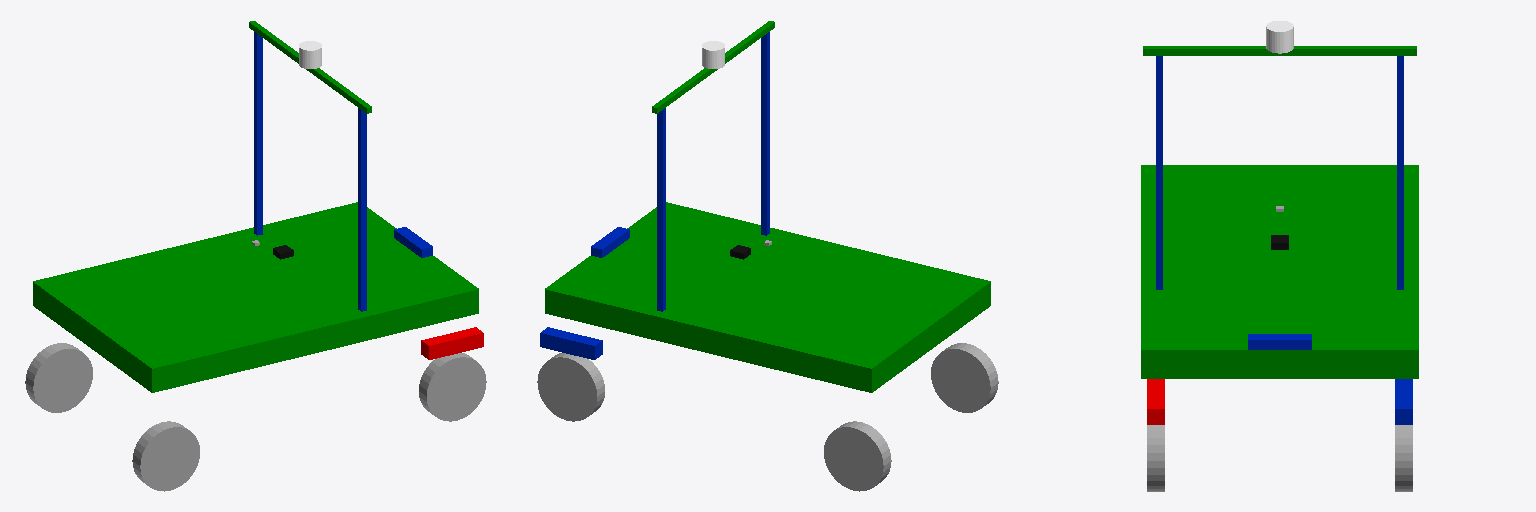
URDF robot description (amr):
<?xml version="1.0" ?>
<!-- =================================================================================== -->
<!-- |    This document was autogenerated by xacro from /home/kong/cart_nav_test/src/cart_nav_test/urdf/amr_PROPER_acker.urdf.xacro | -->
<!-- |    EDITING THIS FILE BY HAND IS NOT RECOMMENDED                                 | -->
<!-- =================================================================================== -->
<robot name="amr">
  <material name="grey">
    <color rgba="0.7 0.7 0.7 1"/>
  </material>
  <material name="green">
    <color rgba="0 0.6 0 1"/>
  </material>
  <material name="red">
    <color rgba="1 0 0 1"/>
  </material>
  <material name="white">
    <color rgba="1 1 1 1"/>
  </material>
  <material name="black">
    <color rgba="0.1 0.1 0.1 1"/>
  </material>
  <material name="blue">
    <color rgba="0 0.2 0.8 1"/>
  </material>
  <link name="base_footprint"/>
  <link name="base_link">
    <visual>
      <geometry>
        <box size="1.2 0.76 0.085"/>
      </geometry>
      <!-- <origin xyz="0 0 0.1" rpy="0 0 0" /> -->
      <origin rpy="0 0 0" xyz="0 0 0"/>
      <material name="green"/>
    </visual>
    <collision>
      <geometry>
        <box size="1.2 0.76 0.085"/>
      </geometry>
      <!-- <origin xyz="0 0 0.1" rpy="0 0 0" /> -->
      <origin rpy="0 0 0" xyz="0 0 0"/>
    </collision>
    <inertial>
      <!-- <origin xyz="0 0 0.1" rpy="0 0 0" /> -->
      <origin rpy="0 0 0" xyz="0 0 0"/>
      <mass value="4.0"/>
      <inertia ixx="0.19494166666666668" ixy="0" ixz="0" iyy="0.48240833333333333" iyz="0" izz="0.6725333333333332"/>
    </inertial>
  </link>
  <link name="lidar_arm_vert_left">
    <visual>
      <geometry>
        <box size="0.02 0.02 0.75"/>
      </geometry>
      <origin rpy="0 0 0" xyz="0 0 0"/>
      <material name="blue"/>
    </visual>
    <collision>
      <geometry>
        <box size="0.02 0.02 0.75"/>
      </geometry>
      <origin rpy="0 0 0" xyz="0 0 0"/>
    </collision>
    <inertial>
      <origin rpy="0 0 0" xyz="0 0 0"/>
      <mass value="0.2"/>
      <inertia ixx="0.009381666666666667" ixy="0" ixz="0" iyy="0.009381666666666667" iyz="0" izz="1.3333333333333333e-05"/>
    </inertial>
  </link>
  <link name="lidar_arm_vert_right">
    <visual>
      <geometry>
        <box size="0.02 0.02 0.75"/>
      </geometry>
      <origin rpy="0 0 0" xyz="0 0 0"/>
      <material name="blue"/>
    </visual>
    <collision>
      <geometry>
        <box size="0.02 0.02 0.75"/>
      </geometry>
      <origin rpy="0 0 0" xyz="0 0 0"/>
    </collision>
    <inertial>
      <origin rpy="0 0 0" xyz="0 0 0"/>
      <mass value="0.2"/>
      <inertia ixx="0.009381666666666667" ixy="0" ixz="0" iyy="0.009381666666666667" iyz="0" izz="1.3333333333333333e-05"/>
    </inertial>
  </link>
  <link name="lidar_arm_hori">
    <visual>
      <geometry>
        <box size="0.02 0.75 0.02"/>
      </geometry>
      <origin rpy="0 0 0" xyz="0 0 0"/>
      <material name="green"/>
    </visual>
    <collision>
      <geometry>
        <box size="0.02 0.75 0.02"/>
      </geometry>
      <origin rpy="0 0 0" xyz="0 0 0"/>
    </collision>
    <inertial>
      <origin rpy="0 0 0" xyz="0 0 0"/>
      <mass value="0.2"/>
      <inertia ixx="0.009381666666666667" ixy="0" ixz="0" iyy="0.009381666666666667" iyz="0" izz="1.3333333333333333e-05"/>
    </inertial>
  </link>
  <link name="lidar_3d">
    <visual>
      <geometry>
        <cylinder length="0.065" radius="0.0375"/>
      </geometry>
      <origin rpy="0 0 0" xyz="0 0 0"/>
      <material name="white"/>
    </visual>
    <collision>
      <geometry>
        <cylinder length="0.065" radius="0.0375"/>
      </geometry>
      <origin rpy="0 0 0" xyz="0 0 0"/>
    </collision>
    <inertial>
      <origin rpy="0 0 0" xyz="0 0 0"/>
      <mass value="0.23"/>
      <!-- Cylinder inertia -->
      <inertia ixx="0.00016183854166666666" ixy="0" ixz="0" iyy="0.00016183854166666666" iyz="0" izz="0.00016171875"/>
    </inertial>
  </link>
  <link name="camera_link">
    <visual>
      <geometry>
        <box size="0.1753 0.0431 0.0303"/>
      </geometry>
      <origin rpy="0 0 1.571" xyz="0 0 0"/>
      <material name="blue"/>
    </visual>
    <collision>
      <geometry>
        <box size="0.1753 0.0431 0.0303"/>
      </geometry>
      <origin rpy="0 0 1.571" xyz="0 0 0"/>
    </collision>
    <inertial>
      <origin rpy="0 0 1.571" xyz="0 0 0"/>
      <mass value="0.23"/>
      <inertia ixx="5.320091666666666e-05" ixy="0" ixz="0" iyy="0.0006065901166666667" iyz="0" izz="0.0006245975833333334"/>
    </inertial>
  </link>
  <link name="camera_depth_frame"/>
  <link name="imu_link">
    <visual>
      <geometry>
        <box size="0.02 0.02 0.01"/>
      </geometry>
      <origin rpy="0 0 0" xyz="0 0 0"/>
      <material name="grey"/>
    </visual>
    <collision>
      <geometry>
        <box size="0.02 0.02 0.01"/>
      </geometry>
      <origin rpy="0 0 0" xyz="0 0 0"/>
    </collision>
    <inertial>
      <origin rpy="0 0 0" xyz="0 0 0"/>
      <mass value="0.05"/>
      <inertia ixx="0.0000020833" ixy="0" ixz="0" iyy="0.0000020833" iyz="0" izz="0.000003333"/>
    </inertial>
  </link>
  <link name="navsat_link">
    <visual>
      <geometry>
        <box size="0.05 0.05 0.02"/>
      </geometry>
      <origin rpy="0 0 0" xyz="0 0 0"/>
      <material name="black"/>
    </visual>
    <collision>
      <geometry>
        <box size="0.05 0.05 0.02"/>
      </geometry>
      <origin rpy="0 0 0" xyz="0 0 0"/>
    </collision>
    <inertial>
      <origin rpy="0 0 0" xyz="0 0 0"/>
      <mass value="0.05"/>
      <inertia ixx="0.000012083" ixy="0" ixz="0" iyy="0.000012083" iyz="0" izz="0.000020833"/>
    </inertial>
  </link>
  <link name="front_left_wheel">
    <visual>
      <geometry>
        <cylinder length="0.05" radius="0.11"/>
      </geometry>
      <origin rpy="1.57 0 0" xyz="0 0 0"/>
      <material name="grey"/>
    </visual>
    <collision>
      <geometry>
        <cylinder length="0.05" radius="0.11"/>
      </geometry>
      <origin rpy="1.57 0 0" xyz="0 0 0"/>
    </collision>
    <inertial>
      <origin rpy="1.57 0 0" xyz="0 0 0"/>
      <mass value="1.5"/>
      <inertia ixx="0.00485" ixy="0" ixz="0" iyy="0.00485" iyz="0" izz="0.009075"/>
    </inertial>
  </link>
  <link name="back_left_wheel">
    <visual>
      <geometry>
        <cylinder length="0.05" radius="0.11"/>
      </geometry>
      <origin rpy="1.57 0 0" xyz="0 0 0"/>
      <material name="grey"/>
    </visual>
    <collision>
      <geometry>
        <cylinder length="0.05" radius="0.11"/>
      </geometry>
      <origin rpy="1.57 0 0" xyz="0 0 0"/>
    </collision>
    <inertial>
      <origin rpy="1.57 0 0" xyz="0 0 0"/>
      <mass value="1.5"/>
      <inertia ixx="0.00485" ixy="0" ixz="0" iyy="0.00485" iyz="0" izz="0.009075"/>
    </inertial>
  </link>
  <link name="front_right_wheel">
    <visual>
      <geometry>
        <cylinder length="0.05" radius="0.11"/>
      </geometry>
      <origin rpy="1.57 0 0" xyz="0 0 0"/>
      <material name="grey"/>
    </visual>
    <collision>
      <geometry>
        <cylinder length="0.05" radius="0.11"/>
      </geometry>
      <origin rpy="1.57 0 0" xyz="0 0 0"/>
    </collision>
    <inertial>
      <origin rpy="1.57 0 0" xyz="0 0 0"/>
      <mass value="1.5"/>
      <inertia ixx="0.00485" ixy="0" ixz="0" iyy="0.00485" iyz="0" izz="0.009075"/>
    </inertial>
  </link>
  <link name="back_right_wheel">
    <visual>
      <geometry>
        <cylinder length="0.05" radius="0.11"/>
      </geometry>
      <origin rpy="1.57 0 0" xyz="0 0 0"/>
      <material name="grey"/>
    </visual>
    <collision>
      <geometry>
        <cylinder length="0.05" radius="0.11"/>
      </geometry>
      <origin rpy="1.57 0 0" xyz="0 0 0"/>
    </collision>
    <inertial>
      <origin rpy="1.57 0 0" xyz="0 0 0"/>
      <mass value="1.5"/>
      <inertia ixx="0.00485" ixy="0" ixz="0" iyy="0.00485" iyz="0" izz="0.009075"/>
    </inertial>
  </link>
  <joint name="base_joint" type="fixed">
    <parent link="base_footprint"/>
    <child link="base_link"/>
    <origin rpy="0 0 0" xyz="0 0 0.4125"/>
  </joint>
  <joint name="base_lidar_arm_vert_left_joint" type="fixed">
    <parent link="base_link"/>
    <child link="lidar_arm_vert_left"/>
    <origin rpy="0 0 0" xyz="0.19999999999999998 0.33 0.375"/>
  </joint>
  <joint name="base_lidar_arm_vert_right_joint" type="fixed">
    <parent link="base_link"/>
    <child link="lidar_arm_vert_right"/>
    <origin rpy="0 0 0" xyz="0.19999999999999998 -0.33 0.375"/>
  </joint>
  <joint name="base_lidar_arm_hori_joint" type="fixed">
    <parent link="base_link"/>
    <child link="lidar_arm_hori"/>
    <origin rpy="0 0 0" xyz="0.19999999999999998 0 0.76"/>
  </joint>
  <!-- <joint name="base_lidar_3d_joint" type="fixed">
        <parent link="base_link" />
        <child link="lidar_3d" />
        <origin xyz="0.15 0 0.38" rpy="0 0 0" />
    </joint> -->
  <joint name="lidar_arm_hori_lidar_3d_joint" type="fixed">
    <parent link="lidar_arm_hori"/>
    <child link="lidar_3d"/>
    <origin rpy="0 0 0" xyz="0 0 0.0425"/>
  </joint>
  <joint name="camera_joint" type="fixed">
    <parent link="base_link"/>
    <child link="camera_link"/>
    <origin rpy="0 0 0" xyz="0.57845 0 0.05765000000000001"/>
  </joint>
  <joint name="camera_depth_joint" type="fixed">
    <parent link="camera_link"/>
    <child link="camera_depth_frame"/>
    <origin rpy="0 0 0" xyz="0 0 0"/>
  </joint>
  <joint name="imu_joint" type="fixed">
    <parent link="base_link"/>
    <child link="imu_link"/>
    <origin rpy="0 0 0" xyz="0 0 0.19"/>
  </joint>
  <joint name="navsat_joint" type="fixed">
    <parent link="base_link"/>
    <child link="navsat_link"/>
    <origin rpy="0 0 0" xyz="0.1 0 0.135"/>
  </joint>
  <link name="front_left_steering_link">
    <visual>
      <geometry>
        <box size="0.2 0.05 0.05"/>
      </geometry>
      <origin rpy="0 0 0" xyz="0 0 0.15"/>
      <material name="blue"/>
    </visual>
    <collision>
      <geometry>
        <box size="0.2 0.05 0.05"/>
      </geometry>
      <origin rpy="0 0 0" xyz="0 0 0.15"/>
    </collision>
    <inertial>
      <origin rpy="0 0 0" xyz="0 0 0.15"/>
      <mass value="0.01"/>
      <inertia ixx="4.166666666666667e-06" ixy="0" ixz="0" iyy="3.5416666666666676e-05" iyz="0" izz="3.5416666666666676e-05"/>
    </inertial>
  </link>
  <link name="front_right_steering_link">
    <visual>
      <geometry>
        <box size="0.2 0.05 0.05"/>
      </geometry>
      <origin rpy="0 0 0" xyz="0 0 0.15"/>
      <material name="red"/>
    </visual>
    <collision>
      <geometry>
        <box size="0.2 0.05 0.05"/>
      </geometry>
      <origin rpy="0 0 0" xyz="0 0 0.15"/>
    </collision>
    <inertial>
      <origin rpy="0 0 0" xyz="0 0 0.15"/>
      <mass value="0.01"/>
      <inertia ixx="4.166666666666667e-06" ixy="0" ixz="0" iyy="3.5416666666666676e-05" iyz="0" izz="3.5416666666666676e-05"/>
    </inertial>
  </link>
  <!-- Steering knuckle joint (this is what the plugin actuates to steer) -->
  <joint name="base_front_left_steering_joint" type="revolute">
    <parent link="base_link"/>
    <child link="front_left_steering_link"/>
    <origin rpy="0 0 0" xyz="0.525 0.34 -0.2975"/>
    <axis xyz="0 0 1"/>
    <limit effort="10" lower="-0.5" upper="0.5" velocity="1.0"/>
  </joint>
  <!-- Wheel spin joint, child of the steering link -->
  <joint name="base_front_left_wheel_joint" type="continuous">
    <parent link="front_left_steering_link"/>
    <child link="front_left_wheel"/>
    <origin rpy="0 0 0" xyz="0 0 0"/>
    <axis xyz="0 1 0"/>
  </joint>
  <!-- Steering knuckle joint (this is what the plugin actuates to steer) -->
  <joint name="base_front_right_steering_joint" type="revolute">
    <parent link="base_link"/>
    <child link="front_right_steering_link"/>
    <origin rpy="0 0 0" xyz="0.525 -0.34 -0.2975"/>
    <axis xyz="0 0 1"/>
    <limit effort="10" lower="-0.5" upper="0.5" velocity="1.0"/>
  </joint>
  <!-- Wheel spin joint, child of the steering link -->
  <joint name="base_front_right_wheel_joint" type="continuous">
    <parent link="front_right_steering_link"/>
    <child link="front_right_wheel"/>
    <origin rpy="0 0 0" xyz="0 0 0"/>
    <axis xyz="0 1 0"/>
  </joint>
  <!-- <joint name="base_front_left_wheel_joint" type="continuous">
        <parent link="base_link" />
        <child link="front_left_wheel" />
        <origin xyz="${wheel_gap_from_base_length} ${wheel_gap_from_base_width} -${robot_base_midpoint + robot_base_wheel_gap + wheel_radius}" rpy="0 0 0" />
        <axis xyz="0 1 0" />
        <dynamics damping="1.0" friction="0.1"/>
    </joint>

    <joint name="base_front_right_wheel_joint" type="continuous">
        <parent link="base_link" />
        <child link="front_right_wheel" />
        <origin xyz="${wheel_gap_from_base_length} -${wheel_gap_from_base_width} -${robot_base_midpoint + robot_base_wheel_gap + wheel_radius}" rpy="0 0 0" />
        <axis xyz="0 1 0" />
        <dynamics damping="1.0" friction="0.1"/>
    </joint>    -->
  <joint name="base_back_left_wheel_joint" type="continuous">
    <parent link="base_link"/>
    <child link="back_left_wheel"/>
    <origin rpy="0 0 0" xyz="-0.525 0.34 -0.2975"/>
    <axis xyz="0 1 0"/>
    <dynamics damping="1.0" friction="0.1"/>
  </joint>
  <joint name="base_back_right_wheel_joint" type="continuous">
    <parent link="base_link"/>
    <child link="back_right_wheel"/>
    <origin rpy="0 0 0" xyz="-0.525 -0.34 -0.2975"/>
    <axis xyz="0 1 0"/>
    <dynamics damping="1.0" friction="0.1"/>
  </joint>
  <gazebo reference="base_link">
    <material>Gazebo/Green</material>
  </gazebo>
  <gazebo reference="lidar_3d">
    <material>Gazebo/White</material>
  </gazebo>
  <gazebo reference="camera_link">
    <material>Gazebo/Black</material>
  </gazebo>
  <gazebo reference="imu_link">
    <material>Gazebo/Grey</material>
  </gazebo>
  <gazebo reference="navsat_link">
    <material>Gazebo/Black</material>
  </gazebo>
  <gazebo reference="lidar_3d">
    <sensor name="lidar_3d_sensor" type="gpu_lidar">
      <topic>lidar_3d</topic>
      <update_rate>15</update_rate>
      <gz_frame_id>lidar_3d</gz_frame_id>
      <lidar>
        <scan>
          <horizontal>
            <!-- <samples>720</samples> -->
            <samples>360</samples>
            <resolution>1</resolution>
            <min_angle>-3.14</min_angle>
            <max_angle>3.14</max_angle>
          </horizontal>
          <vertical>
            <samples>64</samples>
            <resolution>1</resolution>
            <min_angle>-0.26</min_angle>
            <max_angle>0.26</max_angle>
          </vertical>
        </scan>
        <range>
          <min>0.15</min>
          <max>10.0</max>
        </range>
      </lidar>
      <always_on>true</always_on>
    </sensor>
  </gazebo>
  <gazebo reference="camera_link">
    <sensor name="depth_camera" type="rgbd_camera">
      <!-- <sensor name="depth_camera" type="depth_camera"> -->
      <update_rate>15</update_rate>
      <topic>camera</topic>
      <gz_frame_id>camera_link</gz_frame_id>
      <camera>
        <horizontal_fov>1.5708</horizontal_fov>
        <image>
          <!-- <width>640</width>
                    <height>480</height> -->
          <width>320</width>
          <height>240</height>
          <!-- <width>120</width>
                    <height>100</height> -->
          <format>R8G8B8</format>
        </image>
        <clip>
          <near>0.1</near>
          <far>10.0</far>
        </clip>
      </camera>
      <always_on>1</always_on>
      <visualize>true</visualize>
    </sensor>
  </gazebo>
  <gazebo reference="imu_link">
    <sensor name="imu_sensor" type="imu">
      <update_rate>50</update_rate>
      <topic>imu</topic>
      <gz_frame_id>imu_link</gz_frame_id>
      <always_on>1</always_on>
      <imu>
        <orientation_reference_frame>
          <localization>ENU</localization>
        </orientation_reference_frame>
        <angular_velocity>
          <x>
            <noise type="gaussian">
              <mean>0.0</mean>
              <stddev>2e-4</stddev>
            </noise>
          </x>
          <y>
            <noise type="gaussian">
              <mean>0.0</mean>
              <stddev>2e-4</stddev>
            </noise>
          </y>
          <z>
            <noise type="gaussian">
              <mean>0.0</mean>
              <stddev>2e-4</stddev>
            </noise>
          </z>
        </angular_velocity>
        <linear_acceleration>
          <x>
            <noise type="gaussian">
              <mean>0.0</mean>
              <stddev>1.7e-2</stddev>
            </noise>
          </x>
          <y>
            <noise type="gaussian">
              <mean>0.0</mean>
              <stddev>1.7e-2</stddev>
            </noise>
          </y>
          <z>
            <noise type="gaussian">
              <mean>0.0</mean>
              <stddev>1.7e-2</stddev>
            </noise>
          </z>
        </linear_acceleration>
      </imu>
    </sensor>
  </gazebo>
  <gazebo reference="navsat_link">
    <sensor name="navsat" type="navsat">
      <always_on>1</always_on>
      <update_rate>10</update_rate>
      <topic>navsat</topic>
      <gz_frame_id>navsat_link</gz_frame_id>
    </sensor>
  </gazebo>
  <gazebo>
    <plugin filename="gz-sim-ackermann-steering-system" name="gz::sim::systems::AckermannSteering">
      <!-- Steering joints (front wheels, rotate to steer) -->
      <left_steering_joint>base_front_left_steering_joint</left_steering_joint>
      <right_steering_joint>base_front_right_steering_joint</right_steering_joint>
      <!-- Drive joints (rear wheels, provide propulsion) -->
      <left_joint>base_back_left_wheel_joint</left_joint>
      <right_joint>base_back_right_wheel_joint</right_joint>
      <!-- Geometry -->
      <wheel_separation>0.68</wheel_separation>
      <!-- track width (left to right) -->
      <wheel_base>1.05</wheel_base>
      <!-- front axle to rear axle distance -->
      <wheel_radius>0.11</wheel_radius>
      <!-- Steering limits -->
      <steering_limit>0.7854</steering_limit>
      <!-- max steering angle in radians -->
      <!-- Topics -->
      <topic>cmd_vel</topic>
      <odom_topic>odom</odom_topic>
      <!-- <tf_topic>/tf</tf_topic> -->
      <frame_id>odom</frame_id>
      <child_frame_id>base_footprint</child_frame_id>
      <odom_publish_frequency>50</odom_publish_frequency>
    </plugin>
  </gazebo>
  <gazebo reference="base_front_left_steering_joint">
    <implicitSpringDamper>1</implicitSpringDamper>
  </gazebo>
  <gazebo reference="base_front_right_steering_joint">
    <implicitSpringDamper>1</implicitSpringDamper>
  </gazebo>
  <gazebo reference="front_left_wheel">
    <mu1>0.5</mu1>
    <mu2>0.5</mu2>
    <!-- <slip1>0.02</slip1>
        <slip2>0.02</slip2>
        <kp>100000</kp>
        <kd>1</kd> -->
  </gazebo>
  <gazebo reference="front_right_wheel">
    <mu1>0.5</mu1>
    <mu2>0.5</mu2>
    <!-- <slip1>0.02</slip1>
        <slip2>0.02</slip2>
        <kp>100000</kp>
        <kd>1</kd> -->
  </gazebo>
  <gazebo reference="back_left_wheel">
    <mu1>0.2</mu1>
    <mu2>0.2</mu2>
    <!-- <slip1>0.02</slip1>
        <slip2>0.02</slip2>
        <kp>100000</kp>
        <kd>1</kd> -->
  </gazebo>
  <gazebo reference="back_right_wheel">
    <mu1>0.2</mu1>
    <mu2>0.2</mu2>
    <!-- <slip1>0.02</slip1>
        <slip2>0.02</slip2>
        <kp>100000</kp>
        <kd>1</kd> -->
  </gazebo>
</robot>
<!-- <gazebo>
        <plugin filename="gz-sim-diff-drive-system" name="gz::sim::systems::DiffDrive">
            <left_joint>base_front_left_wheel_joint</left_joint>
            <left_joint>base_back_left_wheel_joint</left_joint>
            <right_joint>base_front_right_wheel_joint</right_joint>
            <right_joint>base_back_right_wheel_joint</right_joint>
            <wheel_separation>0.55</wheel_separation>
            <wheel_radius>0.07</wheel_radius>
            <odom_publish_frequency>50</odom_publish_frequency>
            <max_linear_acceleration>1.0</max_linear_acceleration>
            <max_angular_acceleration>0.4</max_angular_acceleration>
            <topic>cmd_vel</topic>
            <odom_topic>odom</odom_topic>
            <frame_id>odom</frame_id>
            <child_frame_id>base_footprint</child_frame_id>
        </plugin>
    </gazebo> -->

--- Facts derived from the render (not from the file) ---
The picture shows the robot from 3 angles, left to right: view 1: azimuth 30°, elevation 25°; view 2: azimuth 150°, elevation 25°; view 3: azimuth 270°, elevation 25°; orthographic projection.
Model amr with 16 links and 15 joints (2 revolute, 4 continuous, 9 fixed), rooted at base_footprint, posed every joint at zero.
Visible links, largest first — view 1: base_link, back_left_wheel, back_right_wheel, front_right_wheel, lidar_arm_vert_left, lidar_arm_vert_right, front_right_steering_link, lidar_arm_hori, camera_link, lidar_3d; view 2: base_link, back_left_wheel, back_right_wheel, front_left_wheel, lidar_arm_vert_right, lidar_arm_vert_left, front_left_steering_link, lidar_arm_hori, camera_link, lidar_3d; view 3: base_link, lidar_arm_hori, lidar_arm_vert_left, lidar_arm_vert_right, front_left_wheel, front_right_wheel, camera_link, lidar_3d, front_left_steering_link, front_right_steering_link.
Boxes of the visible links, x1,y1,x2,y2 form: base_link: [33, 202, 478, 392]; back_left_wheel: [25, 343, 92, 412]; back_right_wheel: [132, 421, 199, 491]; front_right_wheel: [419, 353, 486, 421]; lidar_arm_vert_left: [254, 32, 262, 235]; lidar_arm_vert_right: [358, 108, 366, 311]; front_right_steering_link: [421, 327, 483, 359]; lidar_arm_hori: [249, 21, 371, 113]; camera_link: [394, 227, 432, 257]; lidar_3d: [299, 41, 321, 68]; base_link: [545, 202, 990, 392]; back_left_wheel: [824, 421, 891, 491]; back_right_wheel: [931, 343, 998, 412]; front_left_wheel: [537, 353, 604, 421]; lidar_arm_vert_right: [761, 32, 769, 235]; lidar_arm_vert_left: [657, 108, 665, 311]; front_left_steering_link: [540, 327, 602, 359]; lidar_arm_hori: [652, 21, 774, 113]; camera_link: [591, 227, 629, 257]; lidar_3d: [702, 41, 724, 68]; base_link: [1141, 165, 1418, 378]; lidar_arm_hori: [1143, 46, 1416, 55]; lidar_arm_vert_left: [1397, 56, 1403, 289]; lidar_arm_vert_right: [1156, 56, 1162, 289]; front_left_wheel: [1395, 425, 1412, 491]; front_right_wheel: [1147, 425, 1164, 491]; camera_link: [1248, 334, 1311, 349]; lidar_3d: [1266, 21, 1293, 53]; front_left_steering_link: [1395, 379, 1412, 424]; front_right_steering_link: [1147, 379, 1164, 424].
Size in the robot's own frame: 1.27 by 0.76 by 1.24 metres.
Geometry: primitives only (box / cylinder / sphere), no mesh files.
